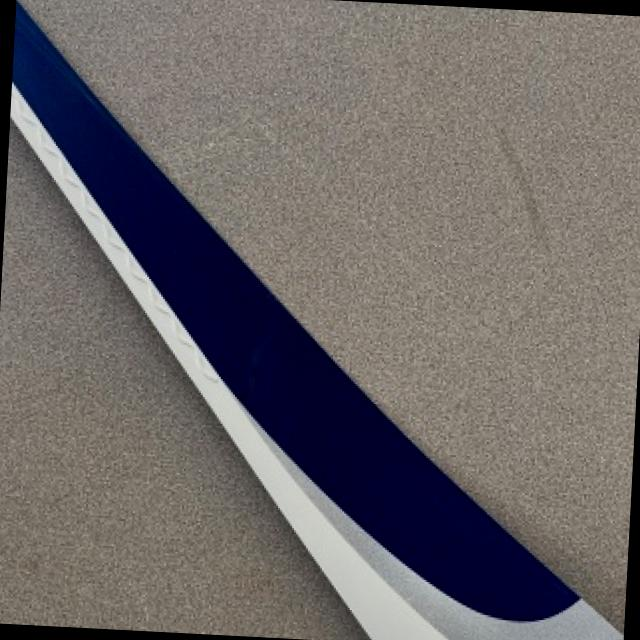healthy: (0, 129, 365, 640)
